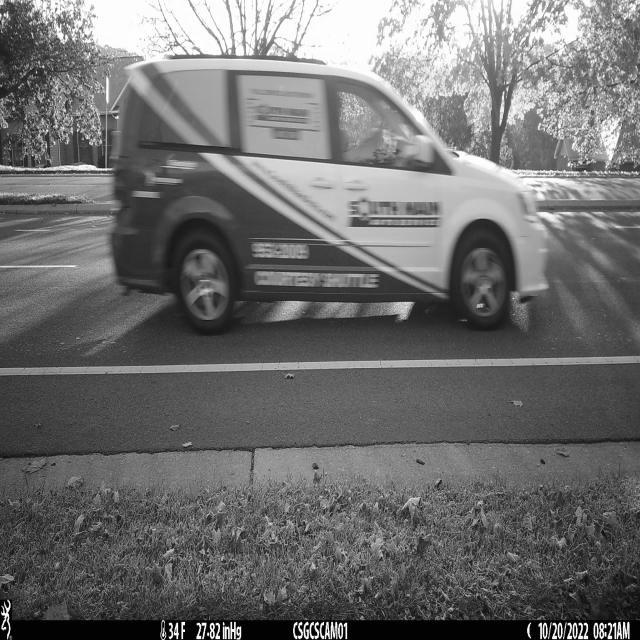Van: (109, 58, 549, 334)
